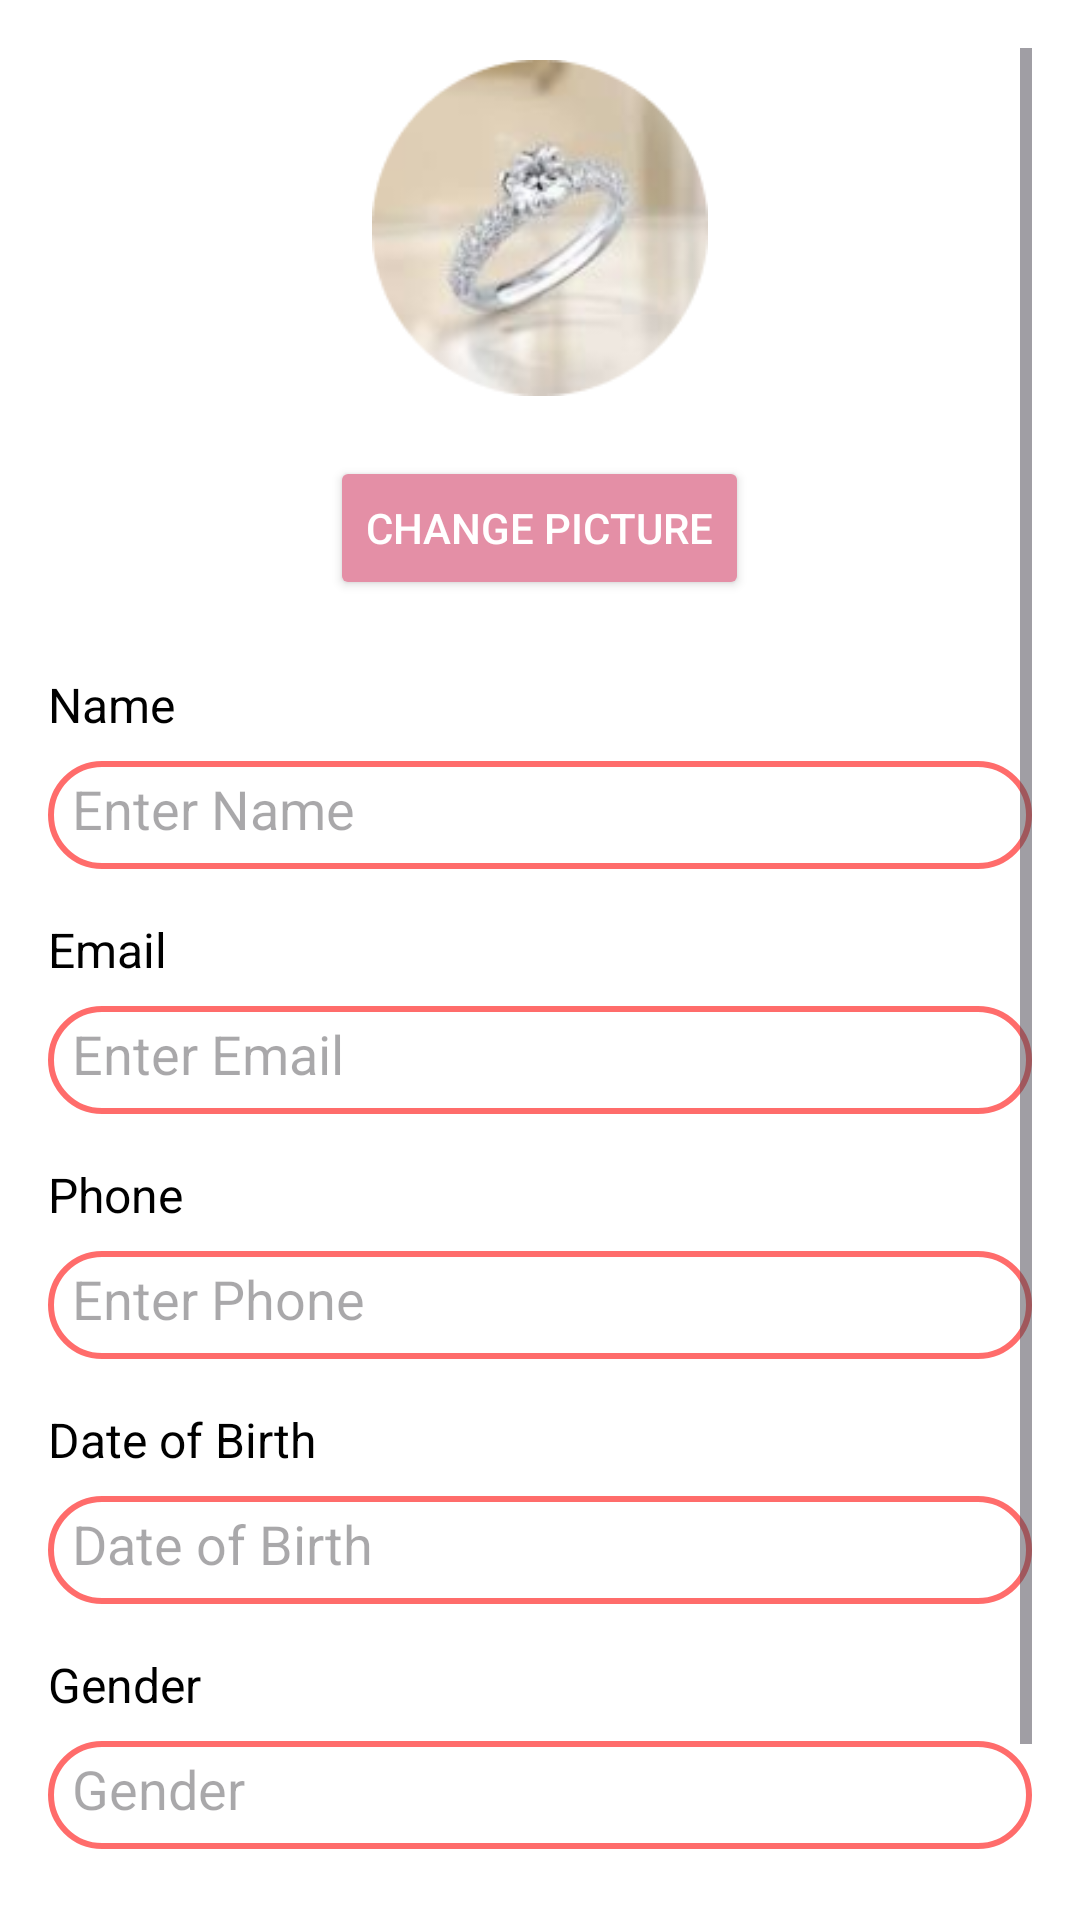

Named icons in this screenshot (1080w x 1920h) and their bounding boxes, {"left": x1, "top": y1, "right": x2, "bottom": y2}:
ring: {"left": 372, "top": 60, "right": 708, "bottom": 396}
